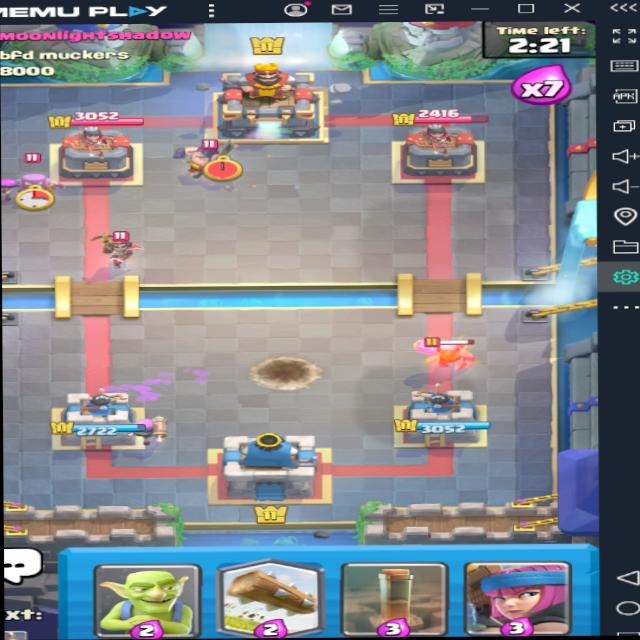executioner: (173, 124, 250, 185)
little-prince: (94, 220, 149, 265)
lumberjack: (414, 324, 481, 369)
mother-witch: (1, 151, 69, 211)
